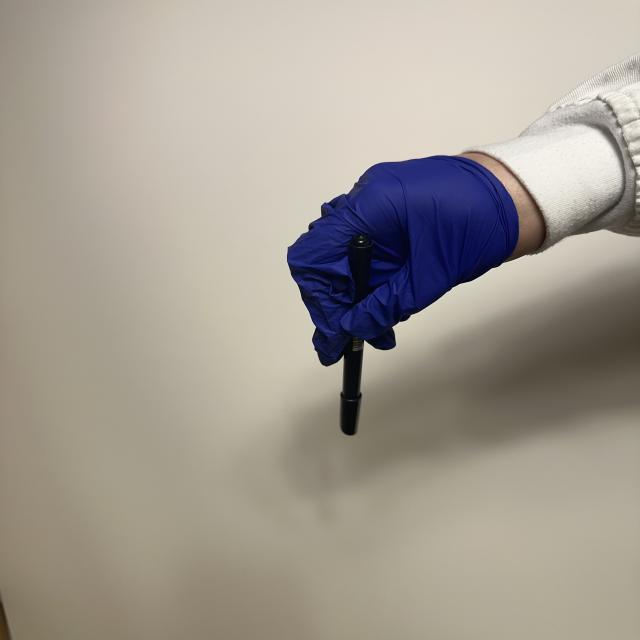glove_partial: (282, 147, 558, 367)
